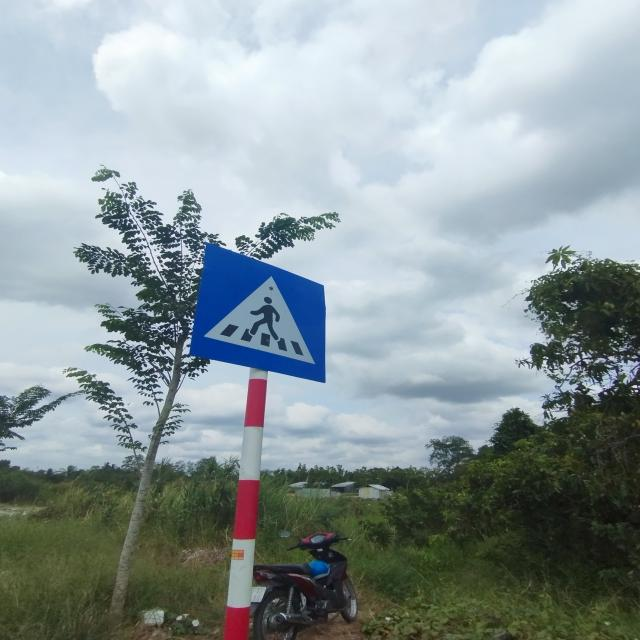Giao_Nhau_Duong_Uu_Tien: (189, 243, 326, 382)
